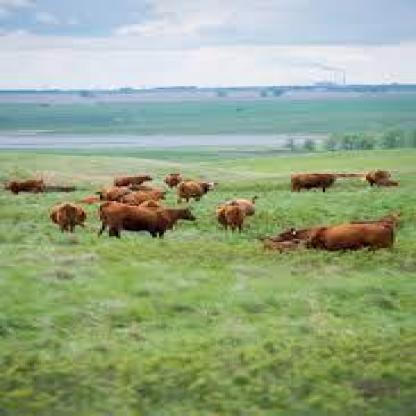cow: (267, 224, 401, 256), (92, 203, 197, 243), (47, 201, 92, 235), (218, 196, 257, 232), (291, 170, 336, 192), (180, 179, 218, 202), (6, 176, 49, 196), (119, 189, 167, 204), (115, 173, 156, 190), (94, 189, 128, 201), (366, 170, 389, 187), (161, 172, 182, 188)
